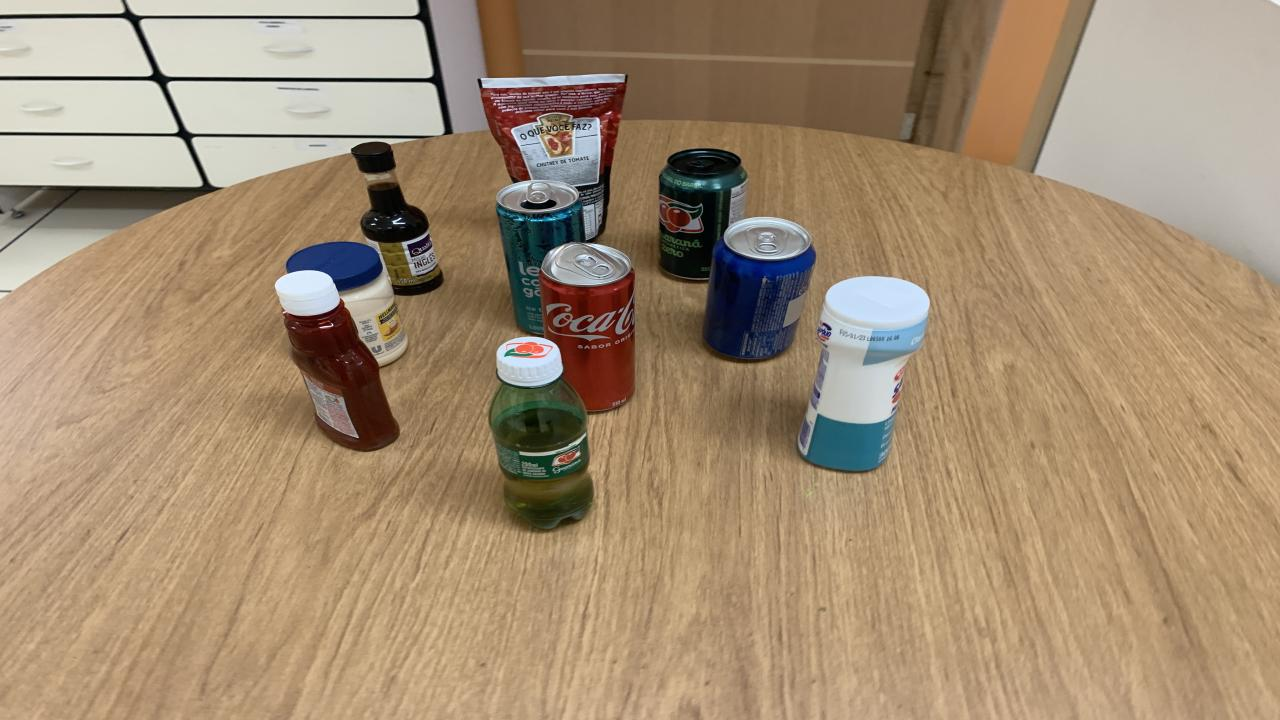Cleaner-Cleanup_Items: (798, 276, 930, 471)
Coke-Drinks: (540, 242, 635, 411)
English_Sauce-Pantry_Items: (352, 142, 442, 294)
Guarana-Drinks: (488, 336, 592, 529)
Guarana_Can-Drinks: (658, 148, 748, 281)
Ketchup-Pantry_Items: (275, 270, 400, 450)
Mayonnaise-Pantry_Items: (285, 242, 408, 366)
Tea-Drinks: (495, 182, 585, 334)
Tomato_Sauce-Pantry_Items: (480, 73, 628, 240)
Tonic-Drinks: (702, 218, 815, 360)
